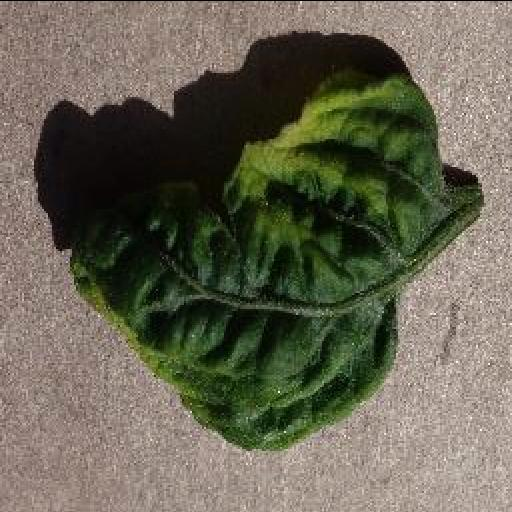disease_tomato: (69, 65, 463, 454)
